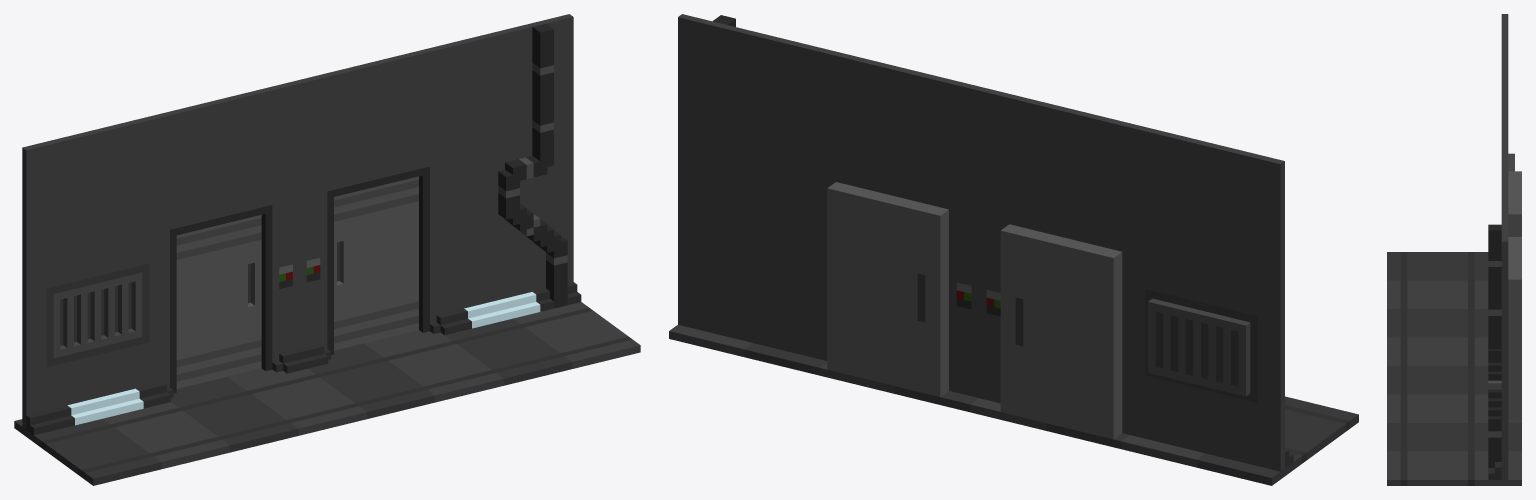
Rendered from exparebrium_1.glb.
3 views of the same model, side by side, from view 1: azimuth 30°, elevation 25°; view 2: azimuth 150°, elevation 25°; view 3: azimuth 270°, elevation 25° (orthographic). The views are drawn at different scales.
Visible parts, largest first — view 1: ObjObject; view 2: ObjObject; view 3: ObjObject.
Part boxes in pixels (x1,y1,x2,y2): ObjObject: (14, 14, 640, 485); ObjObject: (669, 14, 1358, 485); ObjObject: (1387, 14, 1521, 485).
Size of the model in its own units: 8 by 4 by 2.
Materials: 1 (1 with a texture image).
